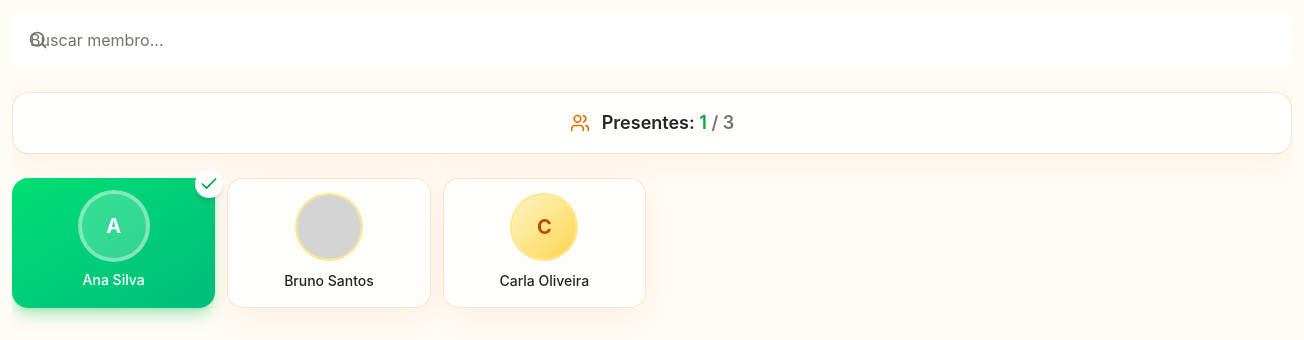
ChamadaGrid › Busca › deve filtrar membros por nome
The image size is (1304, 340).
Check: the text "Ana Silva" is shown, box [83,270,145,290]
Type "Bruno" into the field with placeholder "Buscar membro..." at [652, 40], box [12,12,1292,68]
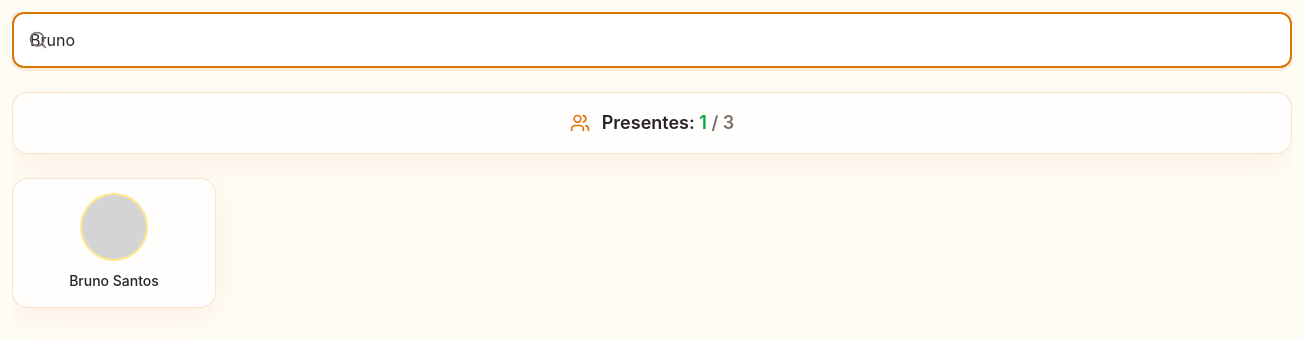
Check: the text "Bruno Santos" is shown, box [69,271,158,291]
Check: the button "Ana Silva" is gone
